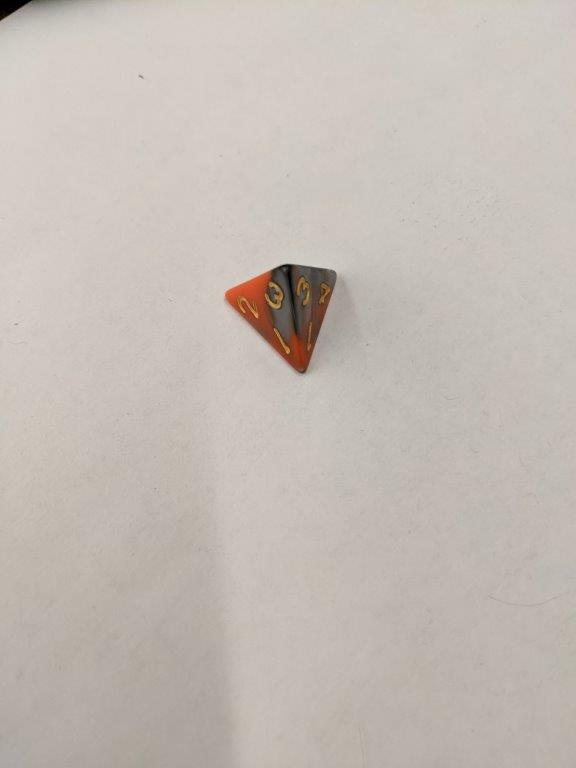d4-3: (221, 259, 340, 380)
